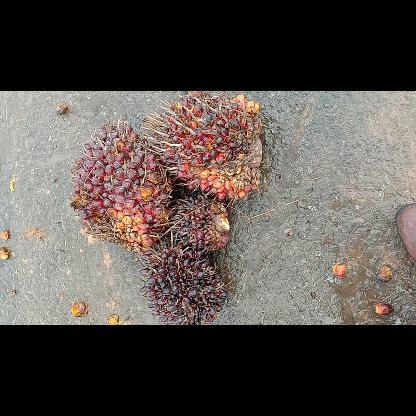TBS abnormal: (140, 238, 230, 324), (168, 195, 233, 253)
TBS masak: (66, 118, 174, 256), (141, 91, 265, 203)
